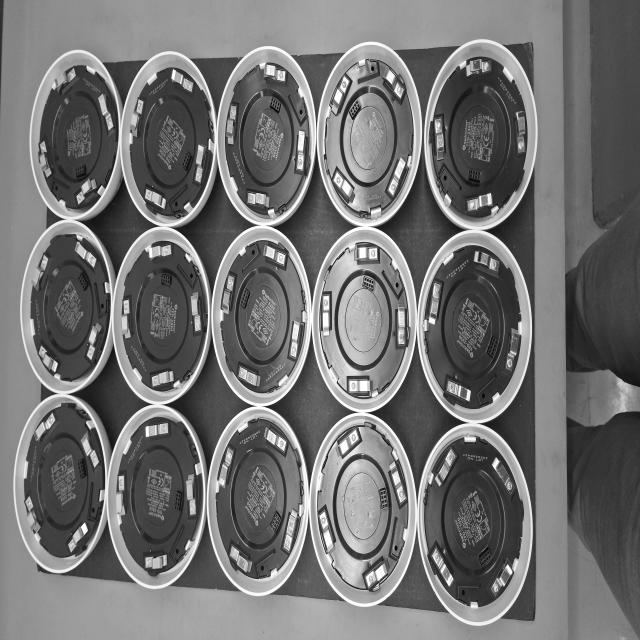yayli: (329, 72, 354, 117), (334, 424, 362, 462), (431, 546, 455, 588), (386, 156, 408, 201), (381, 64, 405, 105), (388, 459, 408, 508), (489, 560, 514, 598), (433, 447, 456, 488), (493, 458, 516, 498), (363, 556, 390, 590), (318, 505, 336, 555), (332, 168, 356, 205), (281, 508, 300, 553), (263, 426, 289, 457), (80, 430, 100, 470), (217, 446, 235, 490), (229, 542, 252, 575), (287, 318, 304, 362), (505, 328, 521, 374), (472, 250, 500, 276), (74, 240, 97, 270), (34, 411, 56, 442), (25, 495, 42, 535), (428, 282, 443, 327), (75, 177, 98, 206), (31, 255, 49, 292), (68, 521, 88, 554), (86, 319, 102, 360), (98, 93, 114, 132), (222, 272, 236, 316), (446, 378, 470, 403), (39, 344, 58, 375), (263, 244, 287, 268), (434, 114, 446, 162), (170, 69, 193, 94), (237, 363, 260, 388), (130, 99, 144, 140), (53, 68, 75, 94), (225, 104, 238, 146), (38, 141, 52, 180), (466, 57, 491, 78), (346, 376, 372, 396), (144, 187, 166, 210), (190, 292, 202, 334), (321, 292, 332, 337), (194, 144, 206, 184), (355, 243, 379, 263), (186, 474, 197, 516), (296, 130, 307, 172), (264, 63, 286, 84), (247, 190, 270, 210), (516, 110, 526, 156), (150, 370, 174, 389), (148, 242, 173, 260), (396, 304, 406, 348), (122, 298, 132, 338), (117, 474, 127, 514), (144, 553, 166, 570), (146, 422, 168, 438)
